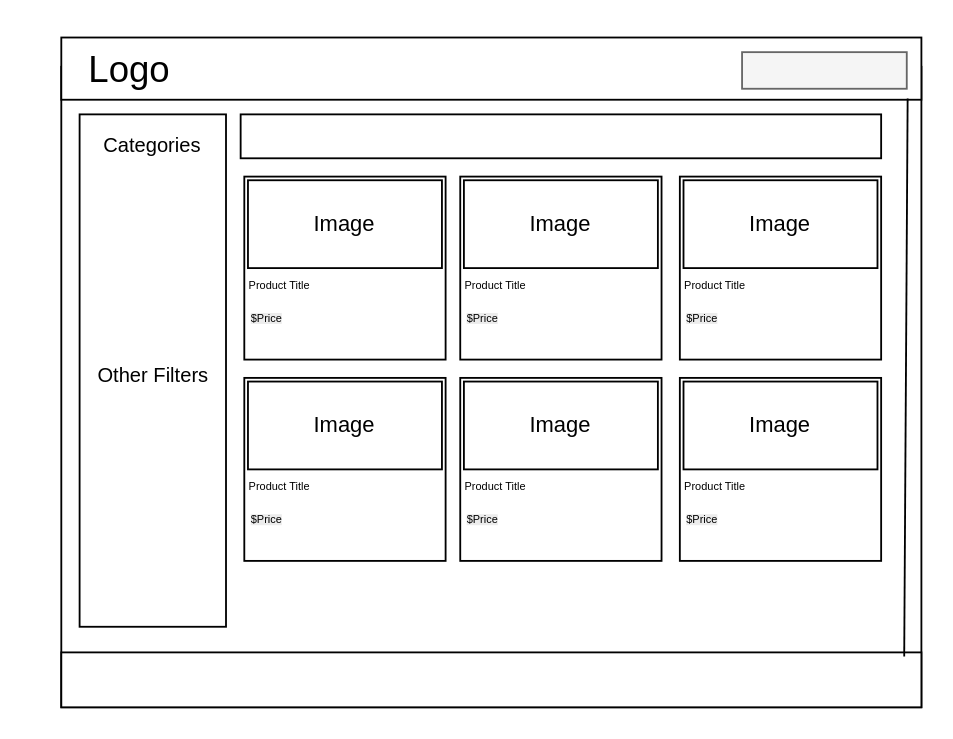
The diagram is 953 pixels wide and 739 high, and some of its shapes have lost their labels. The centre of each missing label's shape, as x and y in pixels:
Register: the point at 823,69
Search: the point at 560,135
Social Media etc.: the point at 490,679
